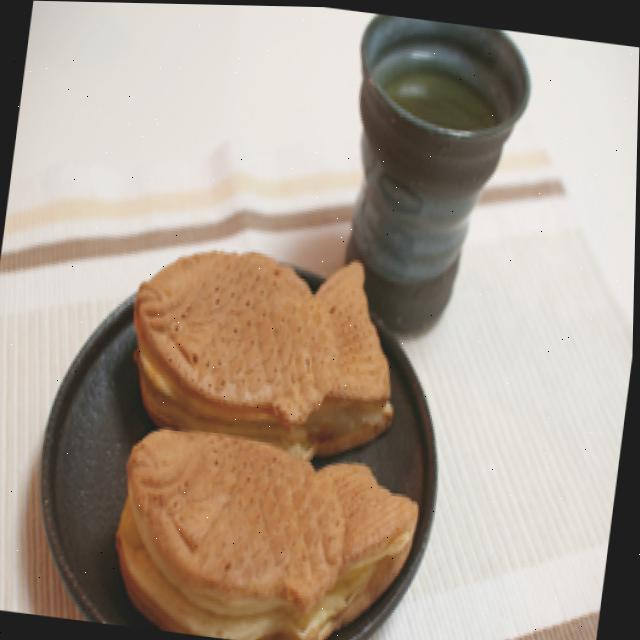熟制海鲜: (84, 220, 449, 640)
